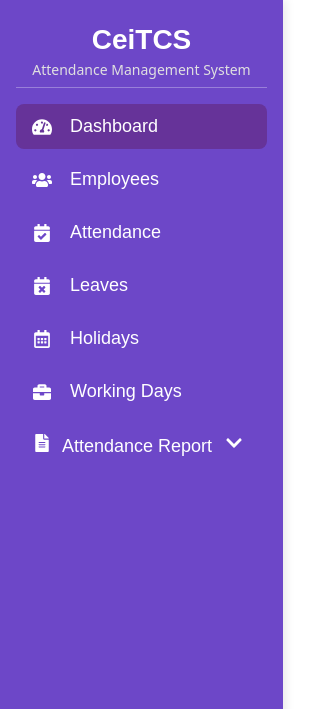
it: Sidebar › Dropdown Menu › opens dropdown when clicking toggle
Click the text "Attendance Report" at (122, 446), box [32,434,212,457]
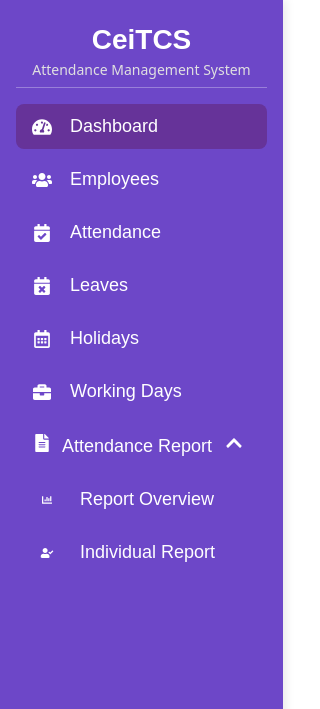
Expected: the list item "Report Overview" is shown, [37,489,214,509]
Expected: the list item "Individual Report" is shown, [37,542,215,562]
